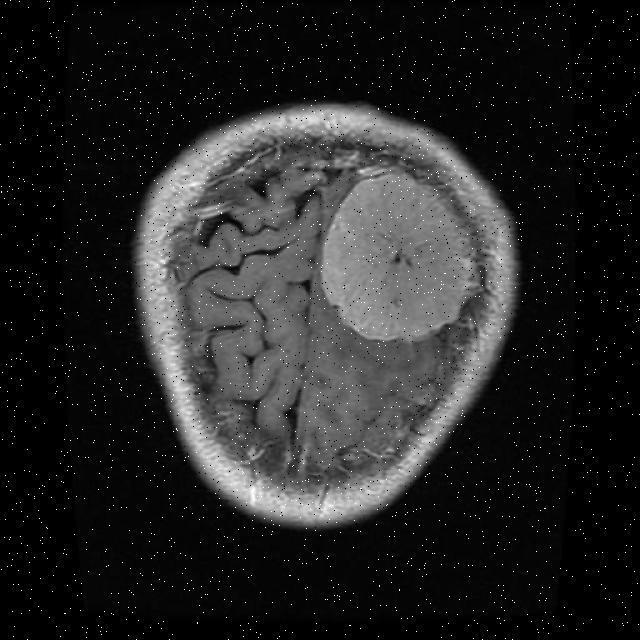Meningioma: (321, 172, 475, 339)
